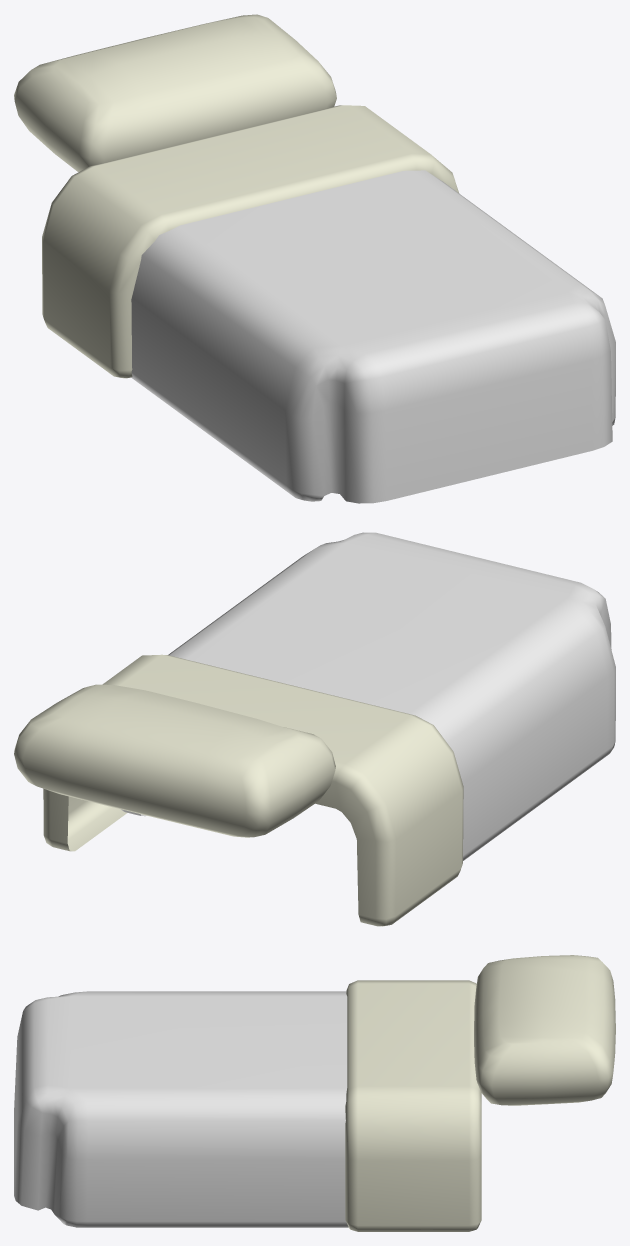
Rendered from Covers_Single.fbx.
3 renders of one model, top to bottom at view 1: azimuth 30°, elevation 25°; view 2: azimuth 150°, elevation 25°; view 3: azimuth 270°, elevation 25°, orthographic. The views are drawn at different scales.
Visible parts, largest first — view 1: Covers_Single; view 2: Covers_Single; view 3: Covers_Single.
Boxes of the visible parts, x1,y1,x2,y2 form: Covers_Single: (14, 14, 615, 503); Covers_Single: (14, 532, 615, 926); Covers_Single: (14, 955, 615, 1231).
Bounding box in the file's own units: 1.1 × 0.622 × 1.93.
